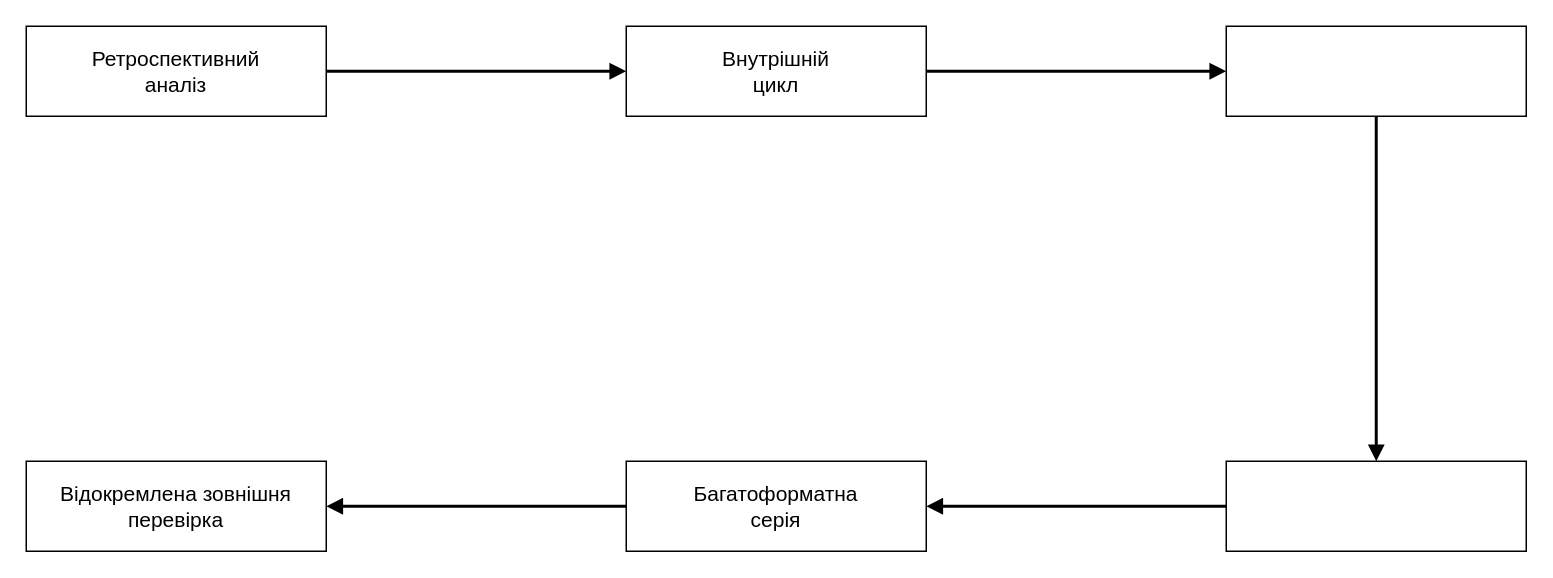
This 1553x578 diagram has some shape labels left out. The centre of each missing label's shape, as x and y in pixels:
Перша зовнішня перевірка: (1375,70)
Поетапна перевірка: (1375,505)
